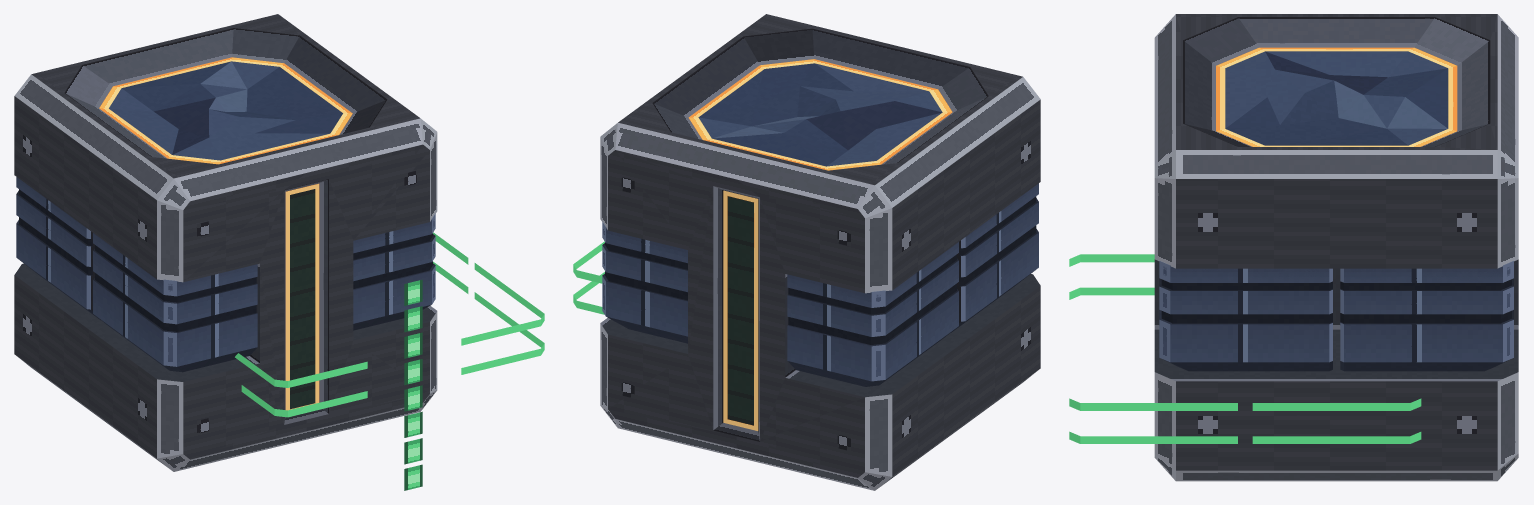
File: marlit_battery.glb
The picture shows the model from 3 angles, left to right: view 1: azimuth 30°, elevation 25°; view 2: azimuth 150°, elevation 25°; view 3: azimuth 270°, elevation 25°; orthographic projection. The views are drawn at different scales.
Visible parts, largest first — view 1: marlit_battery_body, marlit_battery_ring1, marlit_battery_ring0; view 2: marlit_battery_body; view 3: marlit_battery_body, marlit_battery_ring1, marlit_battery_ring0.
Part boxes in pixels (x1,y1,x2,y2): marlit_battery_body: (14,14,437,471); marlit_battery_ring1: (235,232,544,387); marlit_battery_ring0: (241,261,544,417); marlit_battery_body: (600,14,1040,490); marlit_battery_body: (1154,14,1518,481); marlit_battery_ring1: (1069,254,1421,410); marlit_battery_ring0: (1069,287,1421,443).
Bounding box in the file's own units: 2.46 × 2.2 × 2.46.
Materials: 1 (1 with a texture image).
